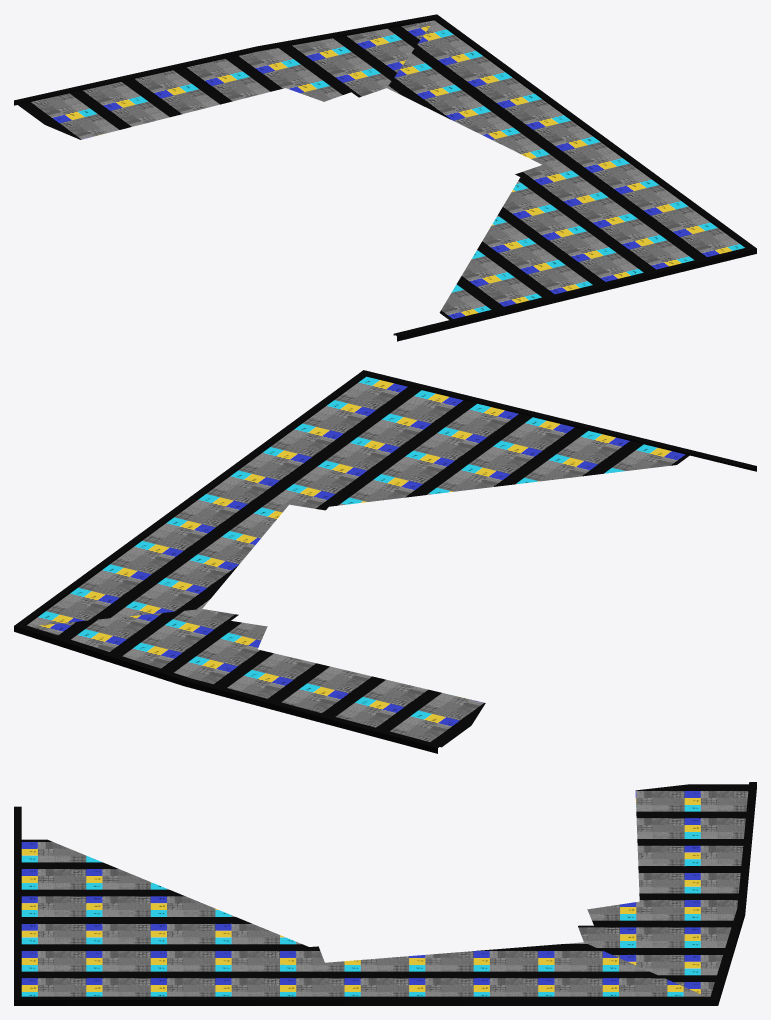
The model's file is downtown_sidewalk_1.fbx.
The picture shows the model from 3 angles, top to bottom: view 1: azimuth 30°, elevation 25°; view 2: azimuth 150°, elevation 25°; view 3: azimuth 270°, elevation 25°; orthographic projection. The views are drawn at different scales.
Visible parts, largest first — view 1: downtown_curb_1, curb_tiles_1; view 2: downtown_curb_1, curb_tiles_1; view 3: downtown_curb_1, curb_tiles_1.
Part boxes in pixels (box(x1,y1,x2,y2)): downtown_curb_1: box(14, 14, 756, 341); curb_tiles_1: box(18, 20, 433, 139); downtown_curb_1: box(14, 370, 756, 753); curb_tiles_1: box(30, 609, 485, 746); downtown_curb_1: box(14, 782, 756, 1005); curb_tiles_1: box(578, 784, 748, 996).
Size of the model in its own units: 1197 by 15 by 1726.
